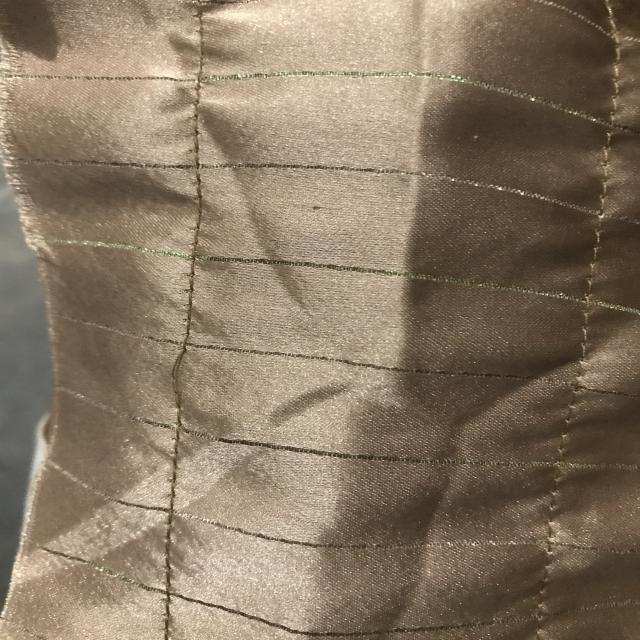good: (147, 459, 194, 556)
skip: (154, 331, 203, 403)
